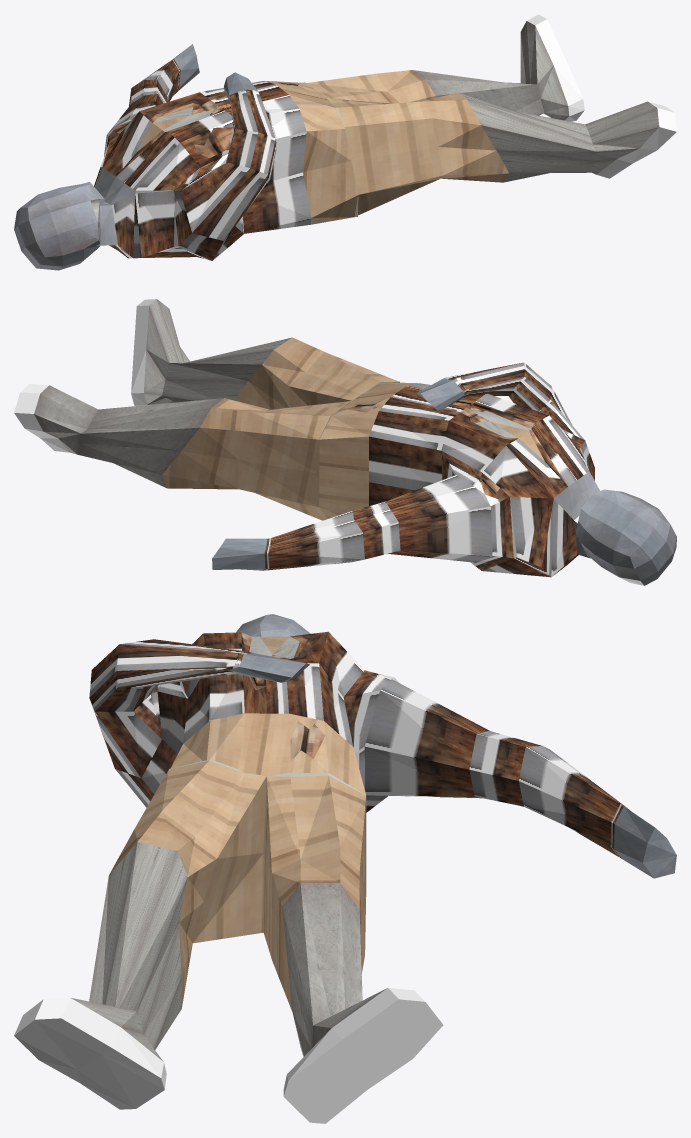
File: hugh.fbx
The picture shows the model from 3 angles, top to bottom: view 1: azimuth 30°, elevation 25°; view 2: azimuth 150°, elevation 25°; view 3: azimuth 270°, elevation 25°; orthographic projection. The views are drawn at different scales.
Visible parts, largest first — view 1: Cube; view 2: Cube; view 3: Cube.
Boxes of the visible parts, x1,y1,x2,y2 form: Cube: (14,14,676,270); Cube: (14,299,676,585); Cube: (14,614,676,1123).
Bounding box in the file's own units: 855 × 200 × 555.
